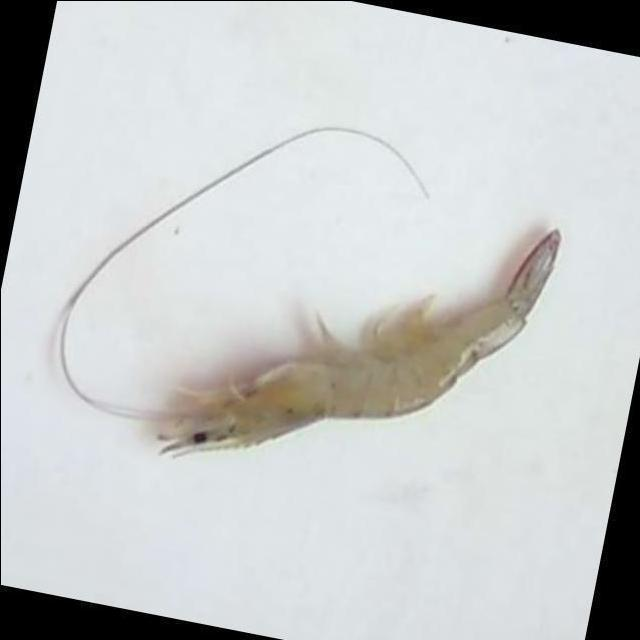shrimp: (158, 229, 561, 458)
